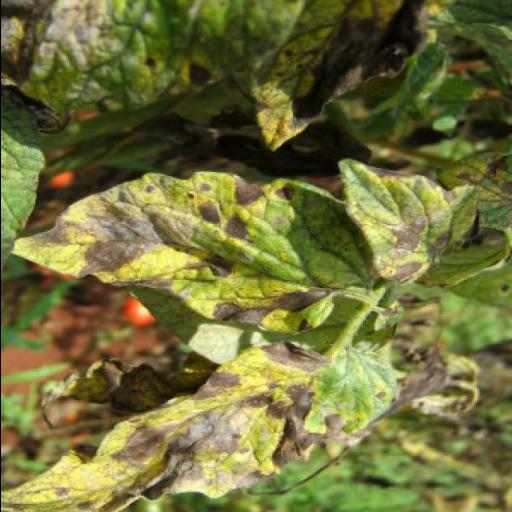disease_tomato: (0, 334, 402, 512), (10, 172, 358, 336)
